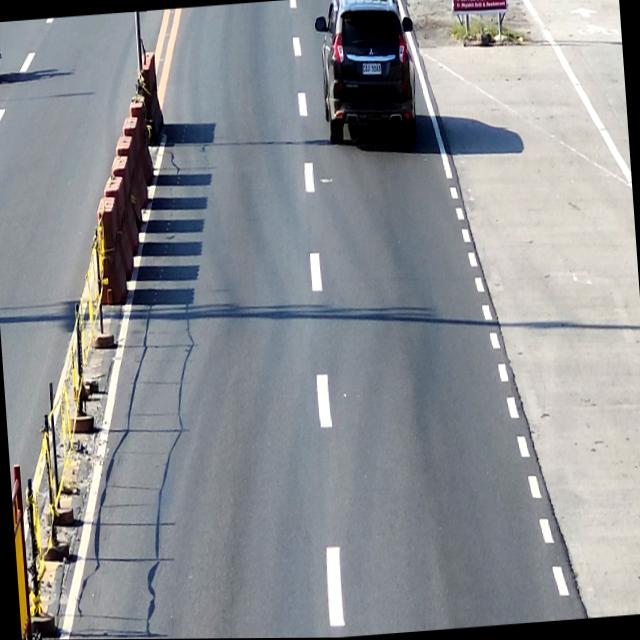Car: (313, 0, 421, 150)
License-Plate: (362, 63, 382, 76)
